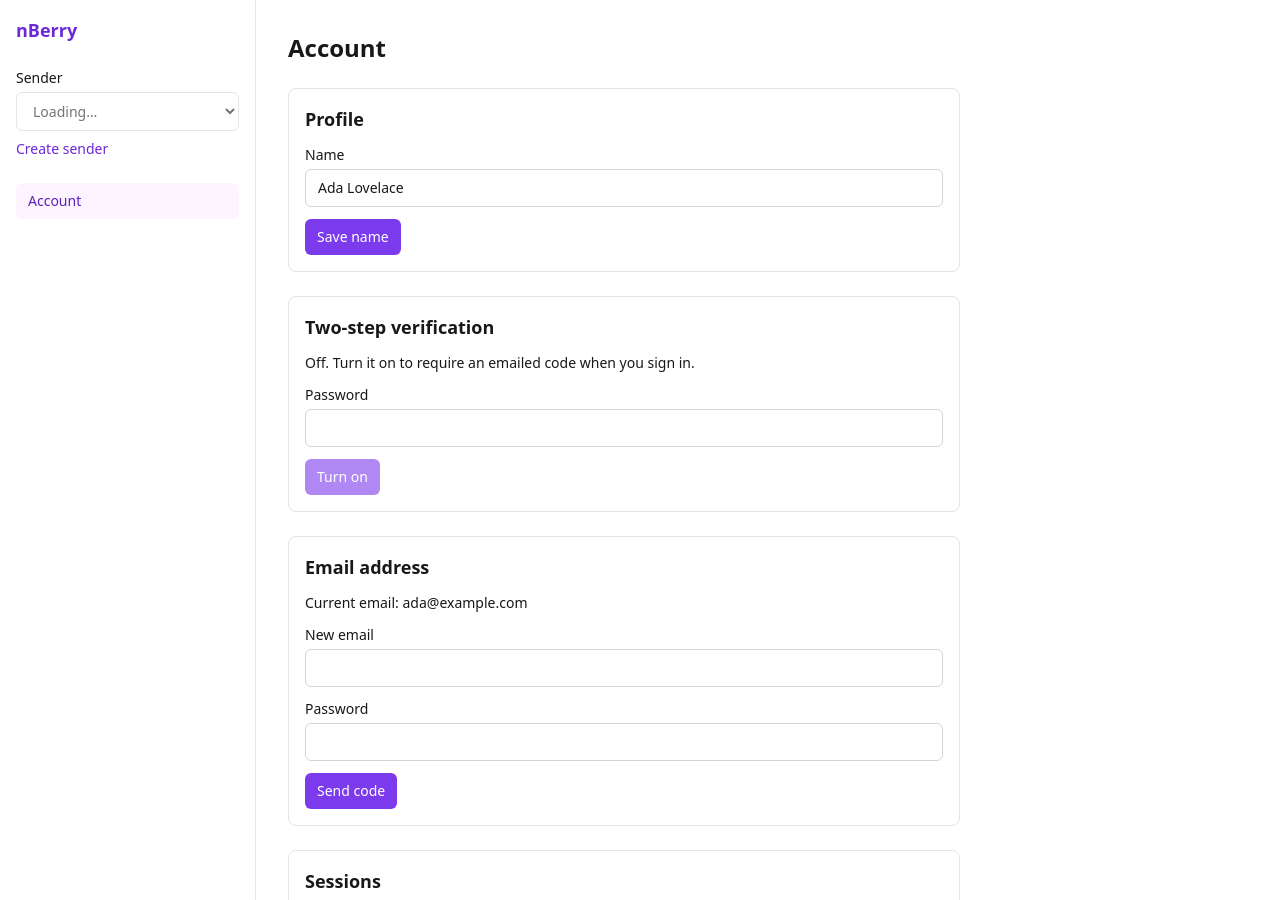
Test: account › saves the profile name
The image size is (1280, 900).
Replace the text in the field labelled "Name" with "Ada B" at (624, 188), box [305,169,943,207]
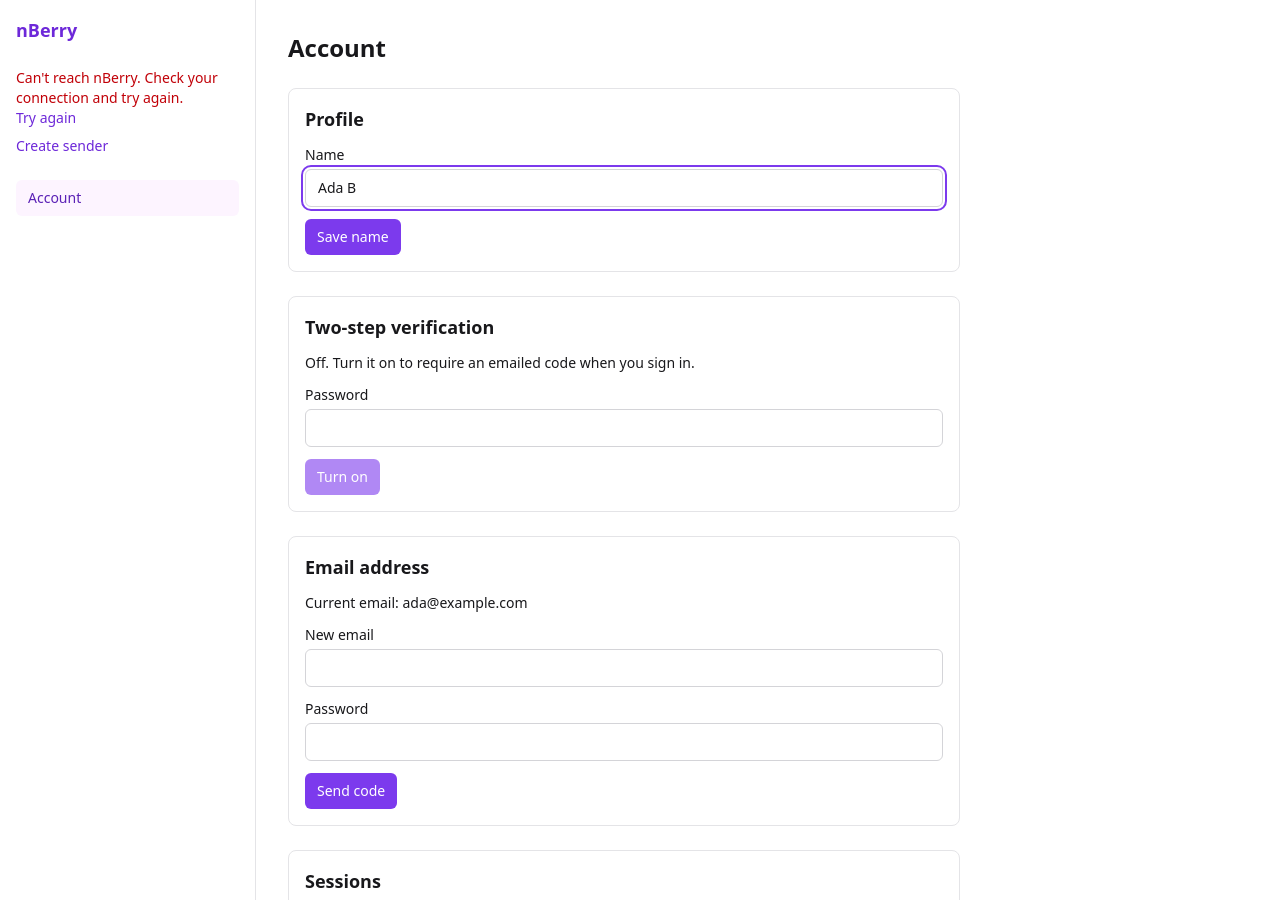
Click the button "Save name" at (353, 237), box [305,219,401,255]
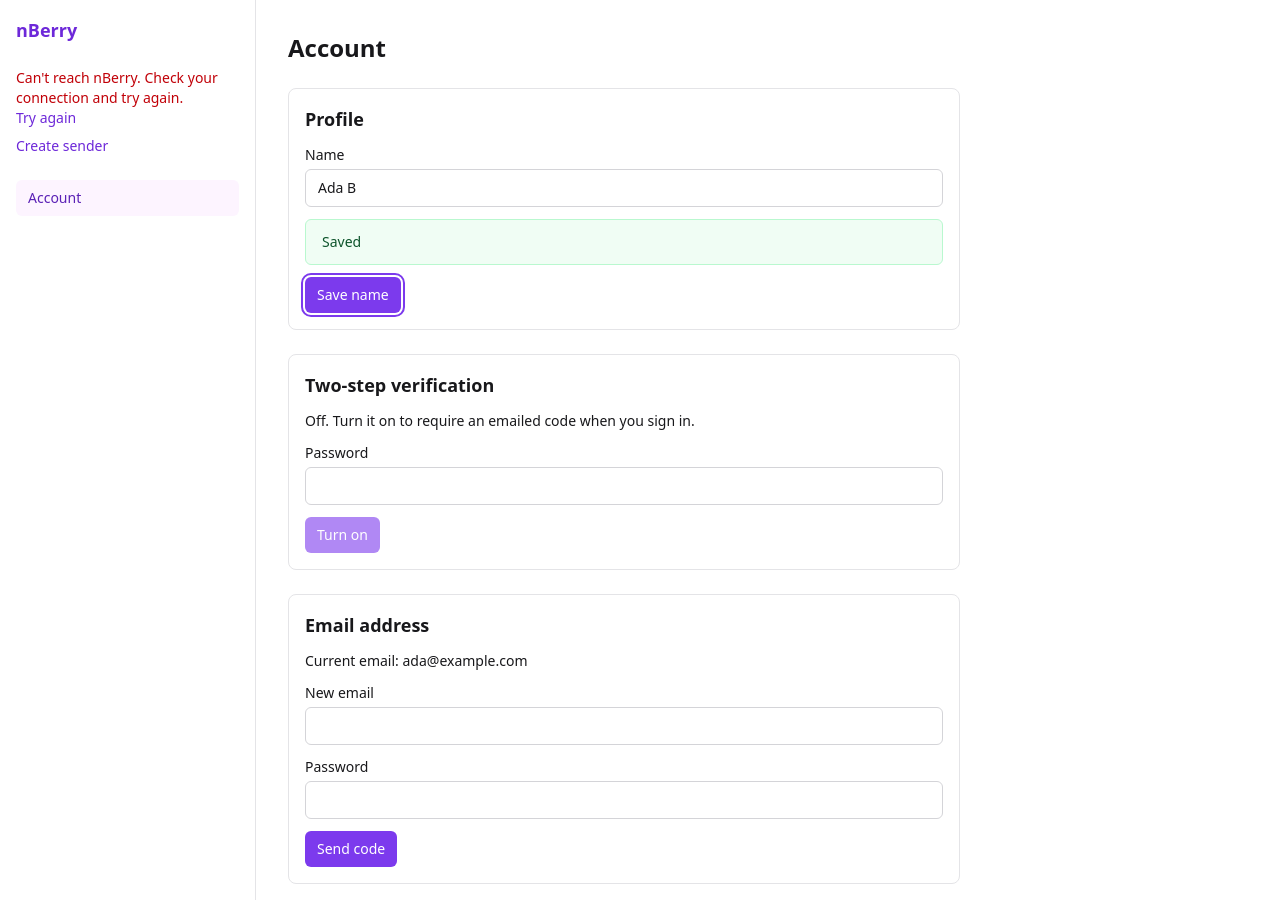
Check: the text "Saved" is shown, box [305,219,943,265]
